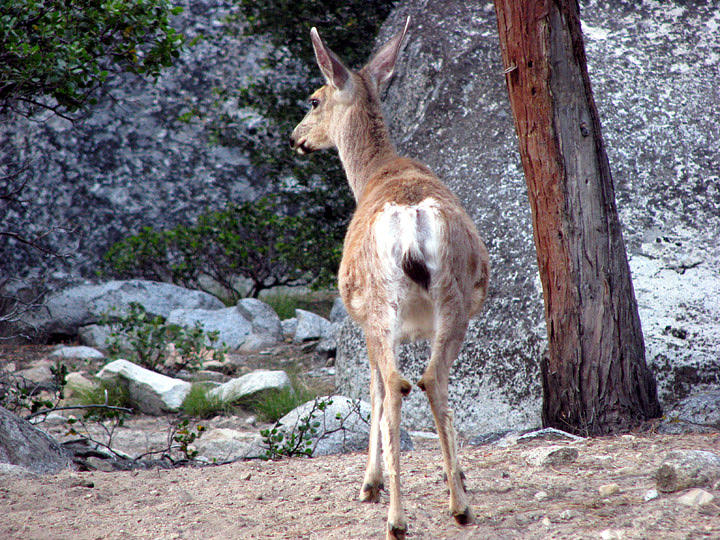Deer: (291, 10, 482, 540)
